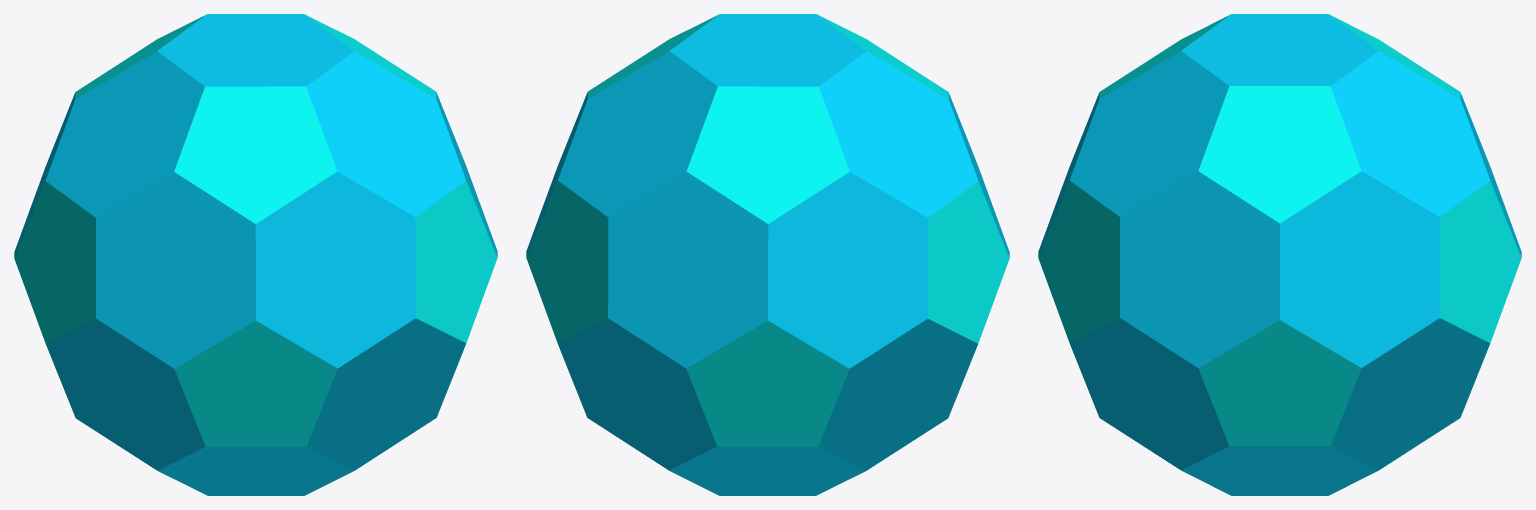
The model's file is FX_Dun2.FBX.
The picture shows the model from 3 angles, left to right: view 1: azimuth 30°, elevation 25°; view 2: azimuth 150°, elevation 25°; view 3: azimuth 270°, elevation 25°; orthographic projection.
Visible parts, largest first — view 1: Object002, Object001, Object003, Hedra001; view 2: Object002, Object001, Object003, Hedra001; view 3: Object002, Object001, Object003, Hedra001.
Part boxes in pixels (x1=…): Object002: x1=14, y1=92, x2=497, y2=368; Object001: x1=45, y1=14, x2=465, y2=223; Object003: x1=46, y1=318, x2=466, y2=470; Hedra001: x1=157, y1=446, x2=354, y2=495; Object002: x1=526, y1=92, x2=1009, y2=368; Object001: x1=558, y1=14, x2=978, y2=223; Object003: x1=557, y1=318, x2=977, y2=470; Hedra001: x1=669, y1=446, x2=866, y2=495; Object002: x1=1038, y1=93, x2=1521, y2=367; Object001: x1=1069, y1=14, x2=1490, y2=223; Object003: x1=1069, y1=318, x2=1490, y2=470; Hedra001: x1=1181, y1=446, x2=1378, y2=495.
Size of the model in its own units: 87.07 by 80.96 by 86.62.
2 materials, 2 textured.
